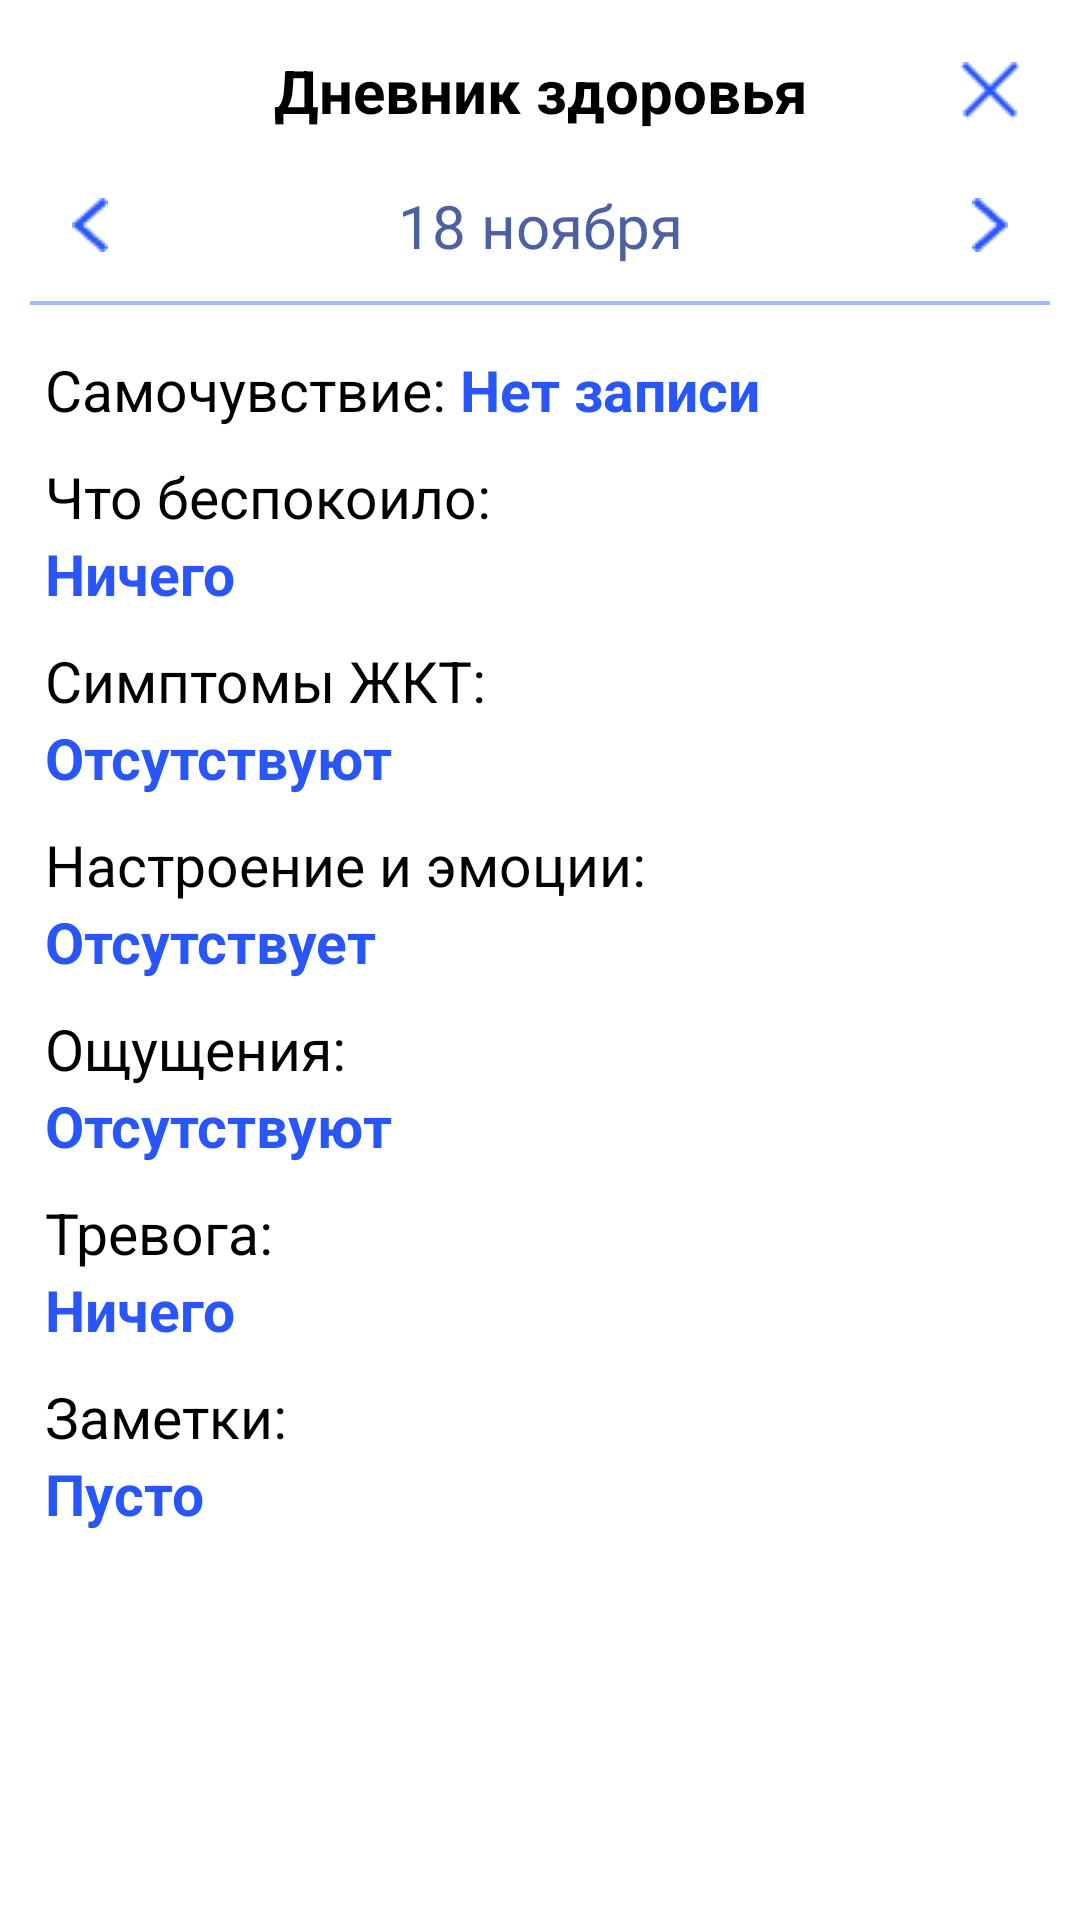

Icon click points for this 1080 × 1920 phone screenshot, format [x,y]:
closebutton: [990,90]
left: [90,225]
right: [990,225]
